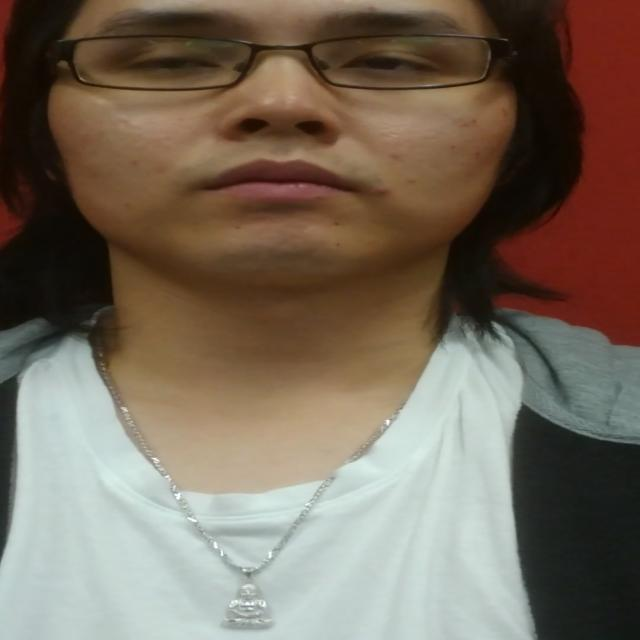Eyeclosed: (113, 46, 230, 81)
Eyeopen: (344, 48, 452, 82)
